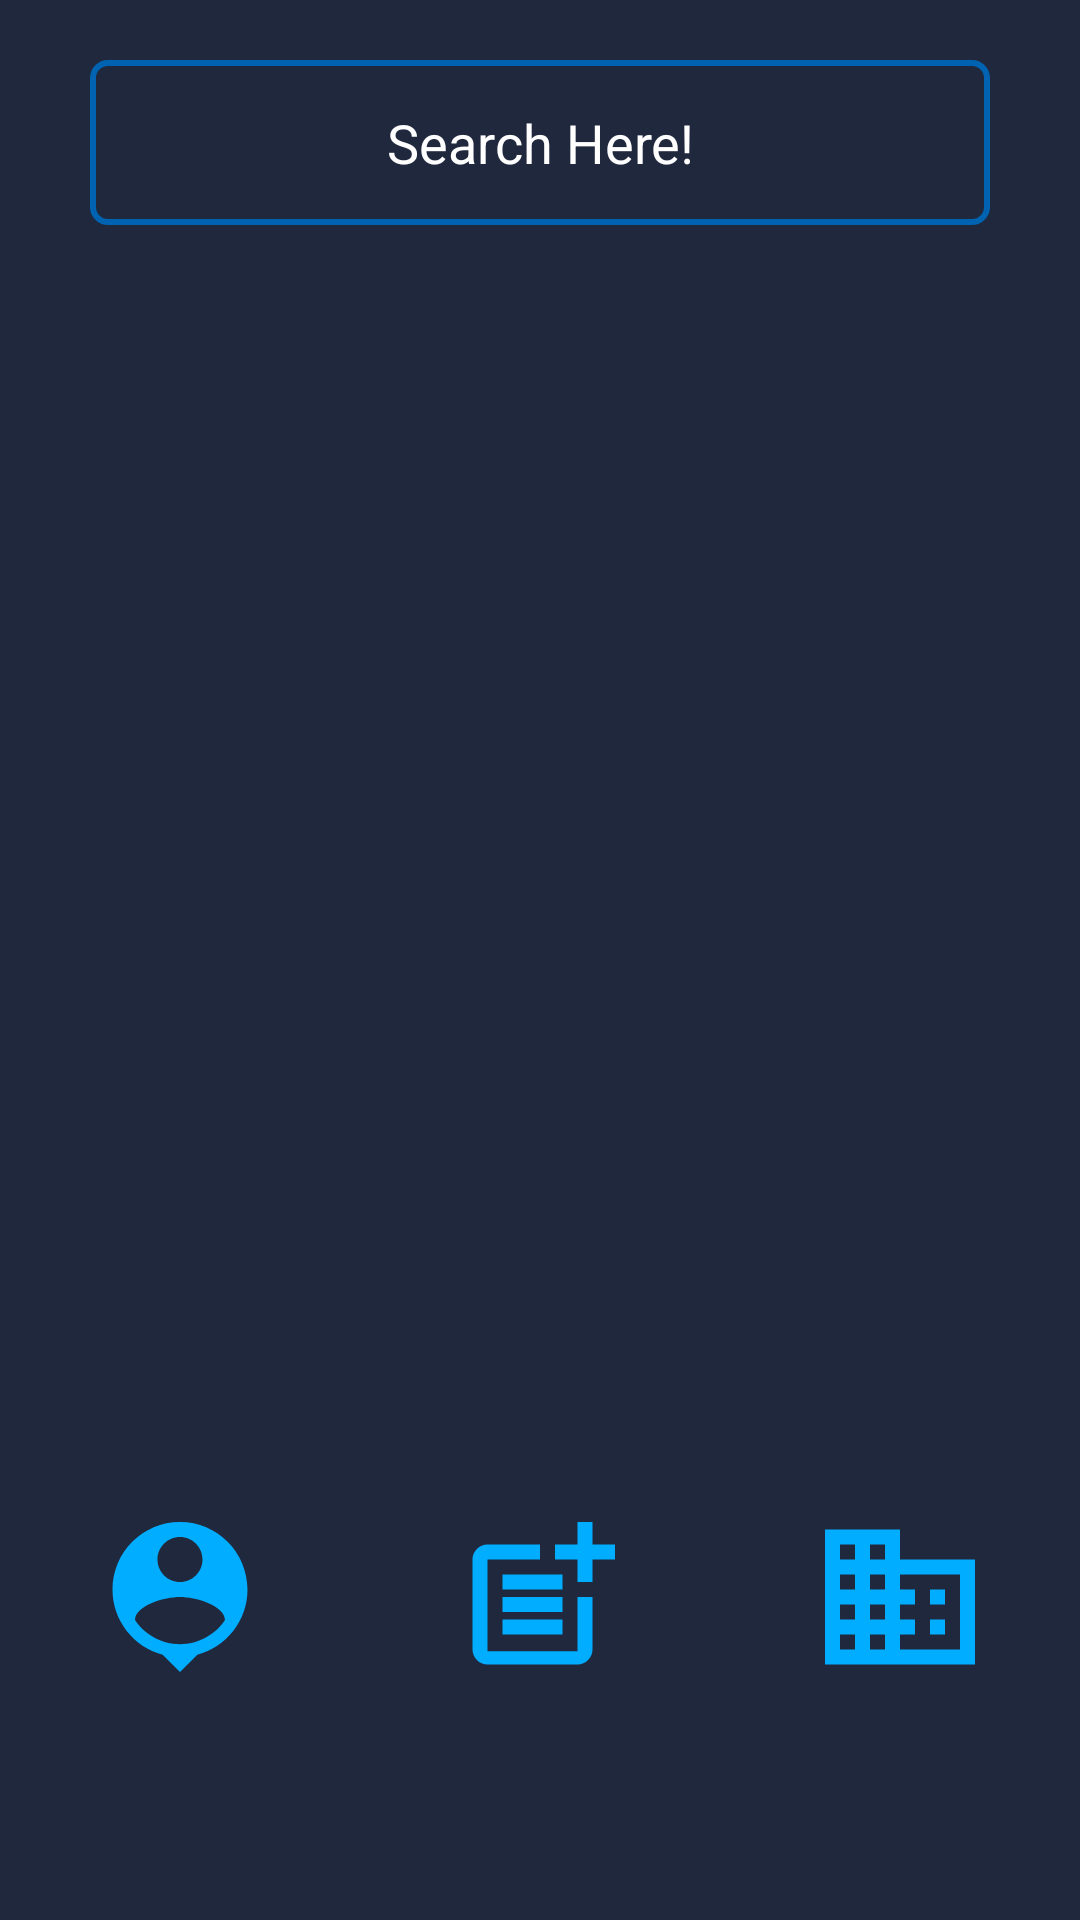

Screen size 1080px x 1920px. Icon name, then its box in pixels as (x1, y1, x2, y2):
Booking Page ImageView: (472, 1522, 615, 1665)
Business Needs ImageView: (825, 1529, 975, 1665)
Personal Page Image: (112, 1522, 248, 1672)
